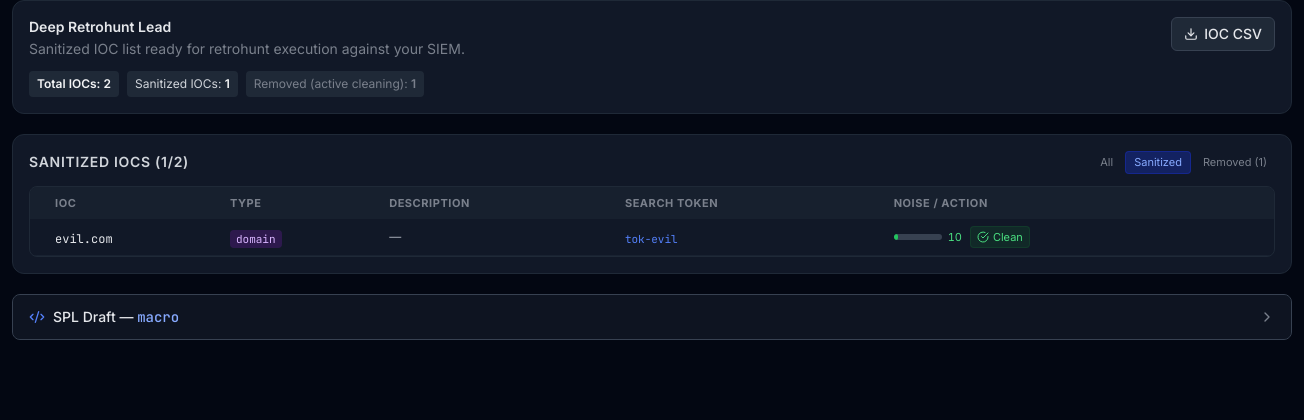
Scenario: RetrohuntPanel — three-way filter + verdict column › All shows every IOC regardless of verdict
The width and height of the screenshot is (1304, 420).
Click the button "All".
click(1107, 162)  # box [1092, 151, 1121, 174]
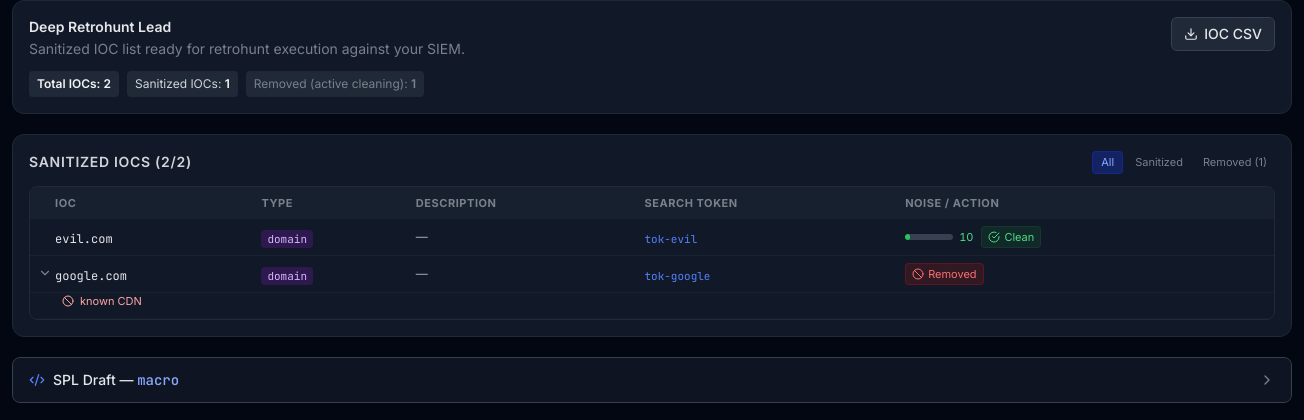
Check: the text "evil.com" is shown, box [55, 231, 113, 247]
Check: the text "google.com" is shown, box [55, 268, 127, 284]
